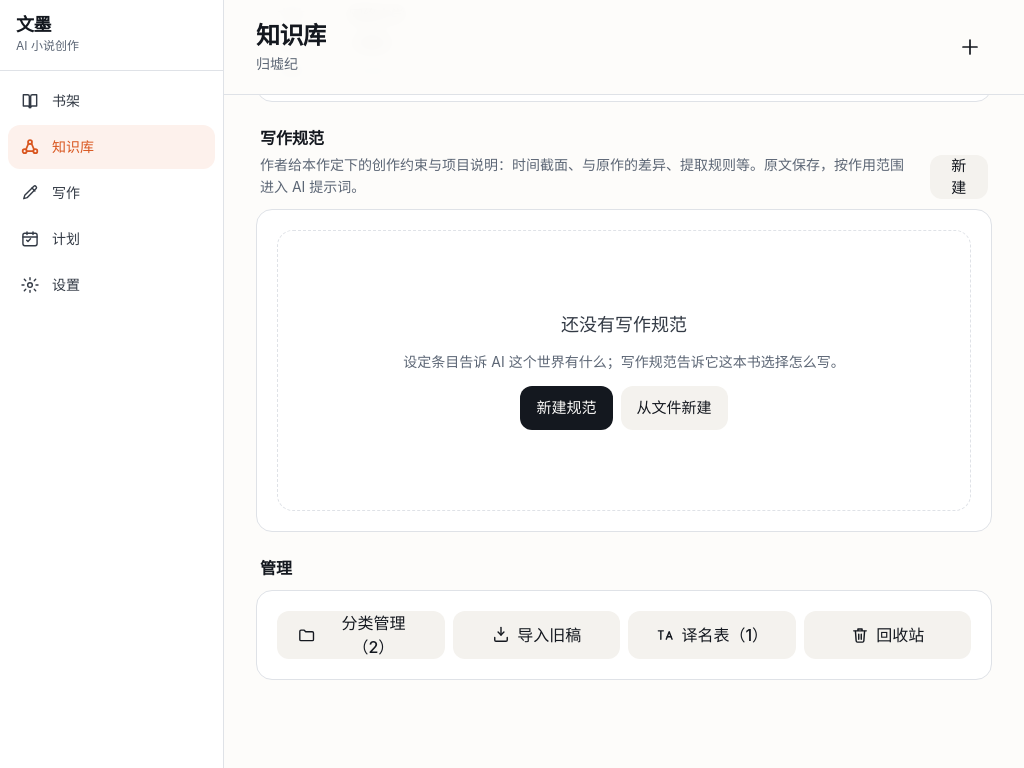
Test: 从译名表跳到对不上的那一章 › 点章节名直接打开那一章的编辑器
The width and height of the screenshot is (1024, 768).
(page scrolled)
Click the button "译名表（1）": (712, 635) [628, 611, 796, 659]
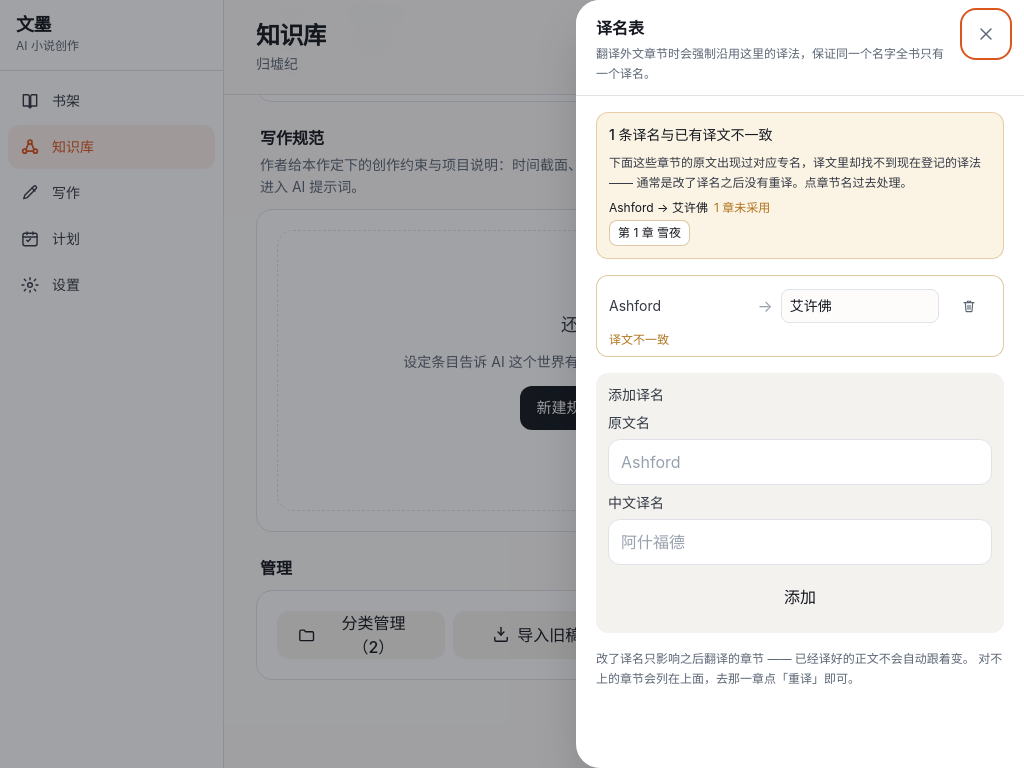
Click the button "第 1 章 雪夜": (650, 233) [609, 220, 690, 246]
(page scrolled)
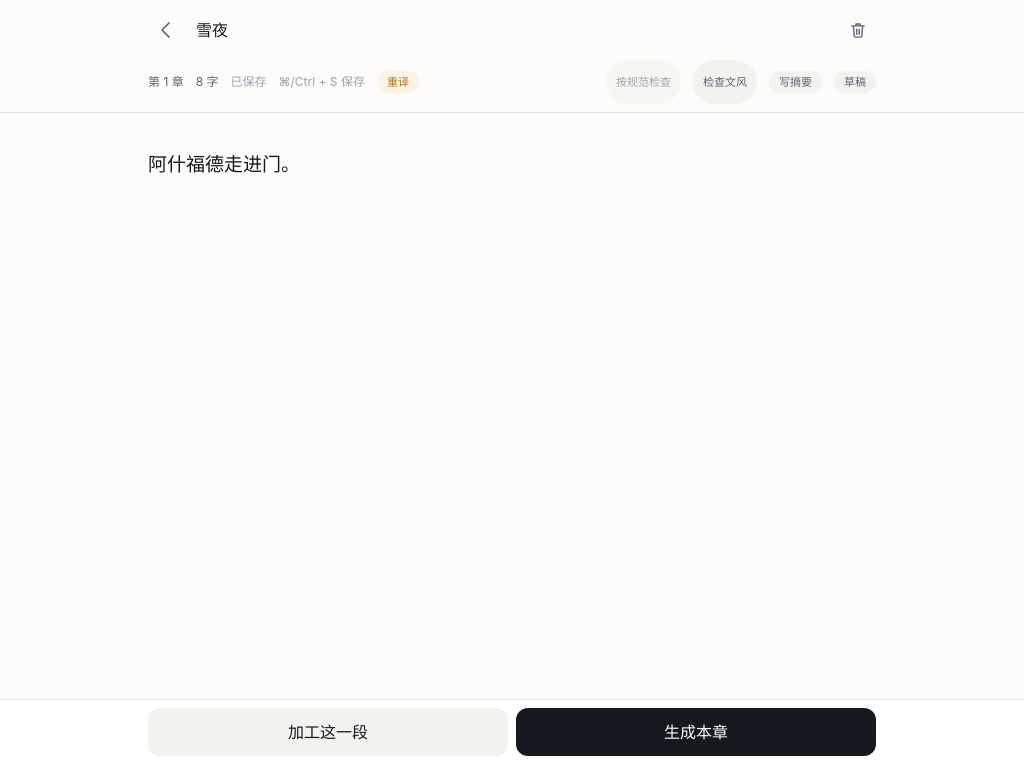
Expected: the text box named "章节正文" holds "阿什福德走进门。", [144, 113, 880, 699]
Expected: the button "译名表" is gone
